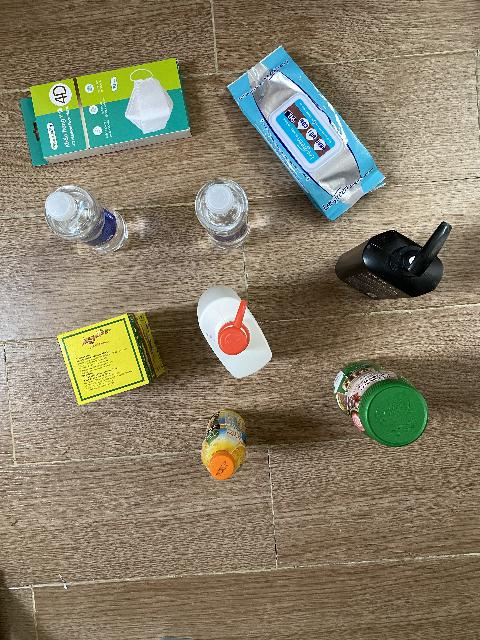4D_medical_face-mask: (20, 58, 193, 167)
Let-green_alcohol_wipes: (227, 45, 387, 222)
X-men: (334, 221, 452, 300)
aquafina: (45, 185, 129, 253), (195, 179, 250, 249)
life-buoy: (197, 285, 272, 378)
luong_kho: (57, 311, 165, 406)
milo: (334, 360, 429, 447)
teppy_orange_juice: (201, 409, 247, 480)
